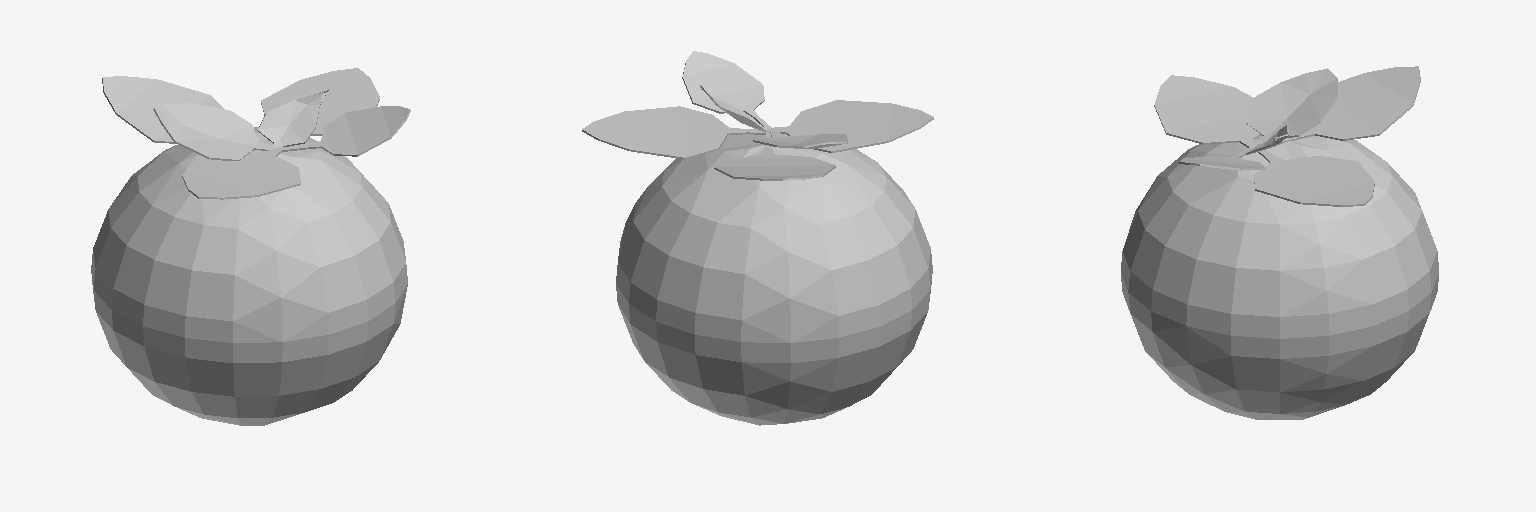
File: melon.obj
3 views of the same model, side by side, from view 1: azimuth 30°, elevation 25°; view 2: azimuth 150°, elevation 25°; view 3: azimuth 270°, elevation 25° (orthographic).
Visible parts, largest first — view 1: melon:pSphere2 melon:polySurface2 melon:polySurface1, melon:pSphere2 melon:polySurface8 melon:polySurface1, melon:pSphere2 melon:polySurface6 melon:polySurface1, melon:pSphere2 melon:polySurface3 melon:polySurface1, melon:pSphere2 melon:polySurface7 melon:polySurface1, melon:pSphere2 melon:polySurface4 melon:polySurface1, melon:pSphere2 melon:polySurface5 melon:polySurface1; view 2: melon:pSphere2 melon:polySurface2 melon:polySurface1, melon:pSphere2 melon:polySurface7 melon:polySurface1, melon:pSphere2 melon:polySurface8 melon:polySurface1, melon:pSphere2 melon:polySurface4 melon:polySurface1, melon:pSphere2 melon:polySurface3 melon:polySurface1, melon:pSphere2 melon:polySurface6 melon:polySurface1, melon:pSphere2 melon:polySurface5 melon:polySurface1; view 3: melon:pSphere2 melon:polySurface2 melon:polySurface1, melon:pSphere2 melon:polySurface8 melon:polySurface1, melon:pSphere2 melon:polySurface3 melon:polySurface1, melon:pSphere2 melon:polySurface7 melon:polySurface1, melon:pSphere2 melon:polySurface6 melon:polySurface1, melon:pSphere2 melon:polySurface4 melon:polySurface1.
Part boxes in pixels (x1,y1,x2,y2): melon:pSphere2 melon:polySurface2 melon:polySurface1: (91, 127, 407, 425); melon:pSphere2 melon:polySurface8 melon:polySurface1: (182, 148, 300, 199); melon:pSphere2 melon:polySurface6 melon:polySurface1: (153, 103, 273, 160); melon:pSphere2 melon:polySurface3 melon:polySurface1: (102, 76, 272, 145); melon:pSphere2 melon:polySurface7 melon:polySurface1: (261, 68, 379, 135); melon:pSphere2 melon:polySurface4 melon:polySurface1: (281, 106, 410, 156); melon:pSphere2 melon:polySurface5 melon:polySurface1: (257, 88, 330, 147); melon:pSphere2 melon:polySurface2 melon:polySurface1: (616, 134, 932, 425); melon:pSphere2 melon:polySurface7 melon:polySurface1: (582, 106, 765, 159); melon:pSphere2 melon:polySurface8 melon:polySurface1: (769, 100, 933, 152); melon:pSphere2 melon:polySurface4 melon:polySurface1: (682, 51, 771, 129); melon:pSphere2 melon:polySurface3 melon:polySurface1: (714, 133, 835, 180); melon:pSphere2 melon:polySurface6 melon:polySurface1: (753, 131, 847, 148); melon:pSphere2 melon:polySurface5 melon:polySurface1: (700, 84, 771, 132); melon:pSphere2 melon:polySurface2 melon:polySurface1: (1121, 135, 1438, 419); melon:pSphere2 melon:polySurface8 melon:polySurface1: (1154, 75, 1260, 147); melon:pSphere2 melon:polySurface3 melon:polySurface1: (1278, 66, 1420, 144); melon:pSphere2 melon:polySurface7 melon:polySurface1: (1254, 150, 1374, 206); melon:pSphere2 melon:polySurface6 melon:polySurface1: (1245, 68, 1337, 144); melon:pSphere2 melon:polySurface4 melon:polySurface1: (1179, 147, 1265, 170).
Size of the model in its own units: 0.9651 by 0.9751 by 0.9227.